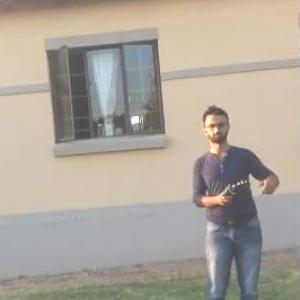follow: (180, 98, 291, 299)
